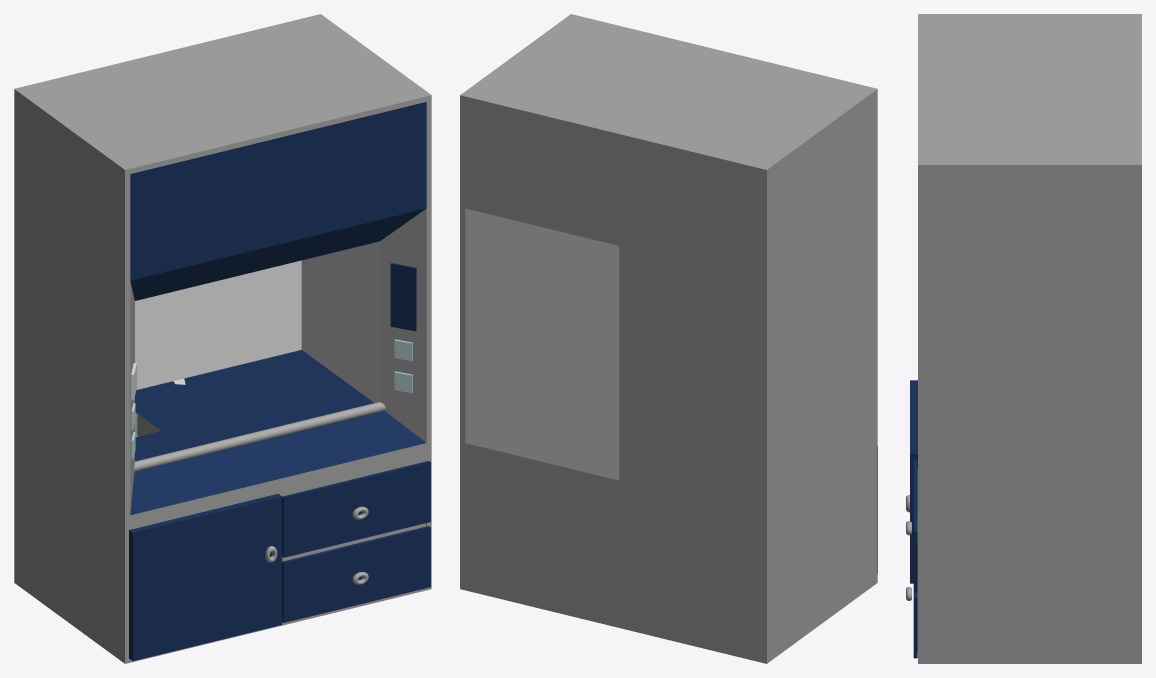
Rendered from 通风橱3.fbx.
3 renders of one model, left to right at view 1: azimuth 30°, elevation 25°; view 2: azimuth 150°, elevation 25°; view 3: azimuth 270°, elevation 25°, orthographic.
Parts seen in each view (by area): view 1: guizi:polySurface9, guizi:guizi1:polySurface10, guizi:guizi2:group2, guizi:guizi3:group3, guizi:polySurface12, guizi:polySurface5; view 2: guizi:polySurface9; view 3: guizi:polySurface9, guizi:guizi1:polySurface10, guizi:guizi2:group2, guizi:guizi3:group3.
Part boxes in pixels (<box>): guizi:polySurface9: <box>14,14,431,663</box>; guizi:guizi1:polySurface10: <box>129,493,282,660</box>; guizi:guizi2:group2: <box>282,461,430,557</box>; guizi:guizi3:group3: <box>282,526,430,622</box>; guizi:polySurface12: <box>134,402,385,471</box>; guizi:polySurface5: <box>390,263,416,331</box>; guizi:polySurface9: <box>460,14,877,663</box>; guizi:polySurface9: <box>918,14,1141,663</box>; guizi:guizi1:polySurface10: <box>906,380,917,583</box>; guizi:guizi2:group2: <box>906,459,917,592</box>; guizi:guizi3:group3: <box>906,587,917,658</box>.
Size of the model in its own units: 17.93 by 27.59 by 11.82.
